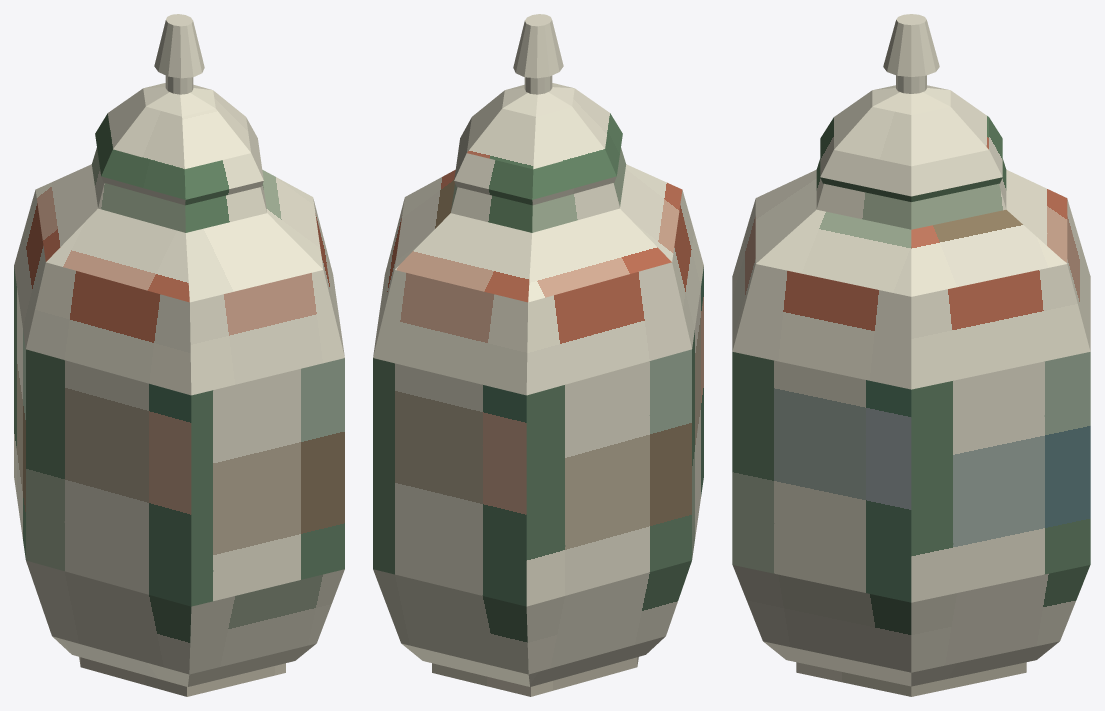
The model's file is antique-kakiemon-hex.glb.
The picture shows the model from 3 angles, left to right: view 1: azimuth 30°, elevation 25°; view 2: azimuth 150°, elevation 25°; view 3: azimuth 270°, elevation 25°; orthographic projection.
Parts seen in each view (by area): view 1: antique-kakiemon-hex/vessel-3, antique-kakiemon-hex/vessel-4, antique-kakiemon-hex/vessel-5, antique-kakiemon-hex/vessel-2, antique-kakiemon-hex/lid-4, antique-kakiemon-hex/lid-3, antique-kakiemon-hex/vessel-6, antique-kakiemon-hex/vessel-1, antique-kakiemon-hex/lid-knob, antique-kakiemon-hex/ring-foot-1, antique-kakiemon-hex/lid-5, antique-kakiemon-hex/lid-2; view 2: antique-kakiemon-hex/vessel-3, antique-kakiemon-hex/vessel-4, antique-kakiemon-hex/vessel-5, antique-kakiemon-hex/vessel-2, antique-kakiemon-hex/lid-4, antique-kakiemon-hex/lid-3, antique-kakiemon-hex/vessel-6, antique-kakiemon-hex/vessel-1, antique-kakiemon-hex/lid-knob, antique-kakiemon-hex/ring-foot-1, antique-kakiemon-hex/lid-5, antique-kakiemon-hex/lid-2; view 3: antique-kakiemon-hex/vessel-3, antique-kakiemon-hex/vessel-4, antique-kakiemon-hex/vessel-5, antique-kakiemon-hex/vessel-2, antique-kakiemon-hex/lid-4, antique-kakiemon-hex/lid-3, antique-kakiemon-hex/vessel-6, antique-kakiemon-hex/vessel-1, antique-kakiemon-hex/lid-knob, antique-kakiemon-hex/ring-foot-1, antique-kakiemon-hex/lid-5, antique-kakiemon-hex/lid-2.
Boxes of the visible parts, x1,y1,x2,y2 form: antique-kakiemon-hex/vessel-3: (14, 267, 344, 606); antique-kakiemon-hex/vessel-4: (14, 190, 344, 395); antique-kakiemon-hex/vessel-5: (35, 164, 323, 302); antique-kakiemon-hex/vessel-2: (26, 560, 344, 674); antique-kakiemon-hex/lid-4: (107, 88, 250, 169); antique-kakiemon-hex/lid-3: (95, 113, 263, 199); antique-kakiemon-hex/vessel-6: (91, 148, 266, 232); antique-kakiemon-hex/vessel-1: (52, 636, 315, 686); antique-kakiemon-hex/lid-knob: (154, 14, 204, 78); antique-kakiemon-hex/ring-foot-1: (79, 657, 285, 696); antique-kakiemon-hex/lid-5: (143, 83, 215, 116); antique-kakiemon-hex/lid-2: (101, 176, 263, 205); antique-kakiemon-hex/vessel-3: (373, 267, 703, 606); antique-kakiemon-hex/vessel-4: (373, 190, 703, 395); antique-kakiemon-hex/vessel-5: (394, 164, 682, 302); antique-kakiemon-hex/vessel-2: (373, 560, 691, 674); antique-kakiemon-hex/lid-4: (467, 88, 610, 169); antique-kakiemon-hex/lid-3: (454, 113, 622, 199); antique-kakiemon-hex/vessel-6: (451, 148, 626, 232); antique-kakiemon-hex/vessel-1: (402, 636, 665, 686); antique-kakiemon-hex/lid-knob: (513, 14, 563, 78); antique-kakiemon-hex/ring-foot-1: (432, 657, 638, 696); antique-kakiemon-hex/lid-5: (502, 83, 574, 116); antique-kakiemon-hex/lid-2: (454, 176, 616, 205); antique-kakiemon-hex/vessel-3: (732, 352, 1090, 602); antique-kakiemon-hex/vessel-4: (732, 199, 1090, 389); antique-kakiemon-hex/vessel-5: (755, 169, 1067, 296); antique-kakiemon-hex/vessel-2: (732, 565, 1090, 672); antique-kakiemon-hex/lid-4: (834, 90, 988, 166); antique-kakiemon-hex/lid-3: (820, 117, 1002, 196); antique-kakiemon-hex/vessel-6: (816, 159, 1006, 229); antique-kakiemon-hex/vessel-1: (763, 641, 1059, 686); antique-kakiemon-hex/lid-knob: (883, 14, 939, 76); antique-kakiemon-hex/ring-foot-1: (796, 662, 1026, 696); antique-kakiemon-hex/lid-5: (872, 85, 950, 114); antique-kakiemon-hex/lid-2: (820, 177, 1002, 201).
Size of the model in its own units: 0.4375 by 0.8477 by 0.4375.
3 materials, 3 textured.
